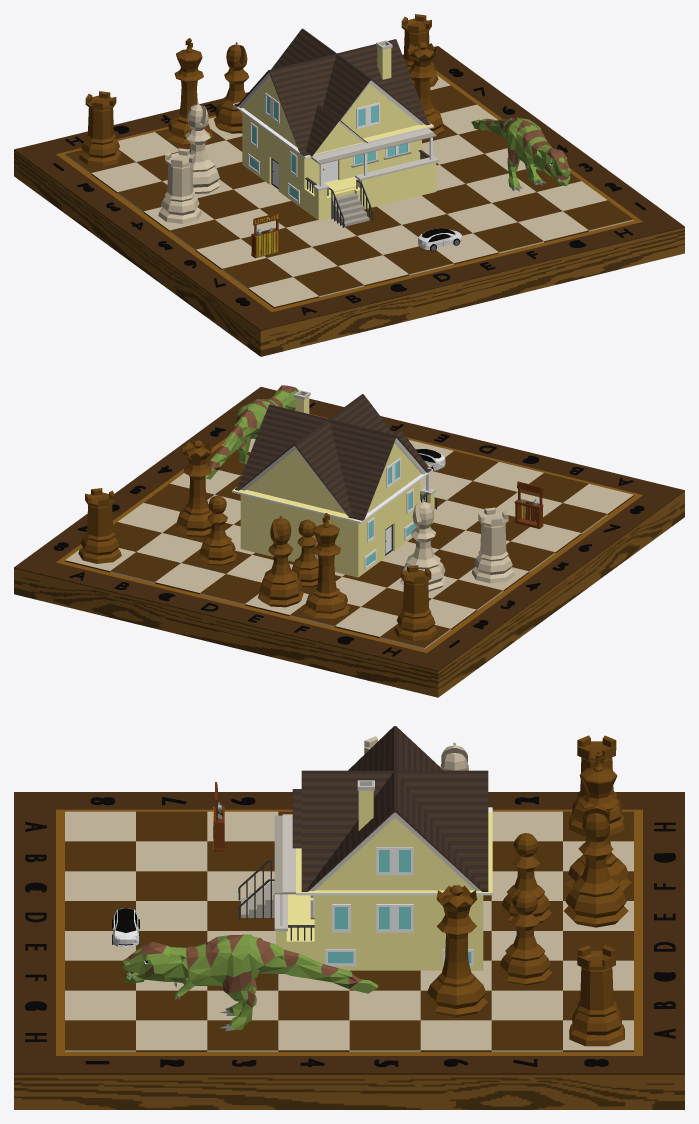
3 views of the same model, one above another, from view 1: azimuth 30°, elevation 25°; view 2: azimuth 150°, elevation 25°; view 3: azimuth 270°, elevation 25° (orthographic). The views are drawn at different scales.
Parts seen in each view (by area): view 1: Cube.002, Cube.1555, ANIMAL_TREX, OBJRANDOM_LEMONADE_STAND, VEHICLES_TESLA; view 2: Cube.002, Cube.1555, ANIMAL_TREX, OBJRANDOM_LEMONADE_STAND; view 3: Cube.002, Cube.1555, ANIMAL_TREX, VEHICLES_TESLA, OBJRANDOM_LEMONADE_STAND.
Part boxes in pixels (<box>): Cube.002: <box>14,14,684,356</box>; Cube.1555: <box>233,28,439,227</box>; ANIMAL_TREX: <box>471,117,570,191</box>; OBJRANDOM_LEMONADE_STAND: <box>251,212,279,258</box>; VEHICLES_TESLA: <box>418,228,462,251</box>; Cube.002: <box>14,387,684,697</box>; Cube.1555: <box>232,390,437,577</box>; ANIMAL_TREX: <box>205,385,298,479</box>; OBJRANDOM_LEMONADE_STAND: <box>514,481,543,528</box>; Cube.002: <box>14,735,684,1109</box>; Cube.1555: <box>238,726,492,970</box>; ANIMAL_TREX: <box>122,934,377,1031</box>; VEHICLES_TESLA: <box>112,908,139,946</box>; OBJRANDOM_LEMONADE_STAND: <box>213,782,224,851</box>.
Bounding box in the file's own units: 3981 × 1584 × 4012.
40 materials, 2 textured.
